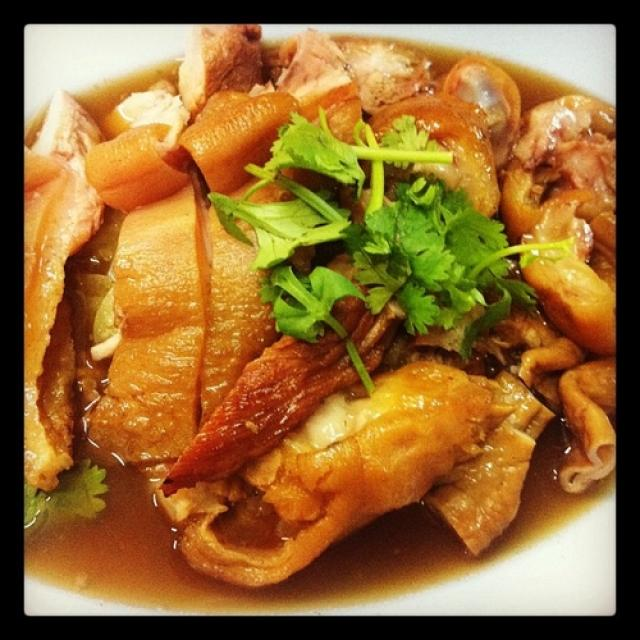猪肉菜式: (44, 52, 602, 586)
